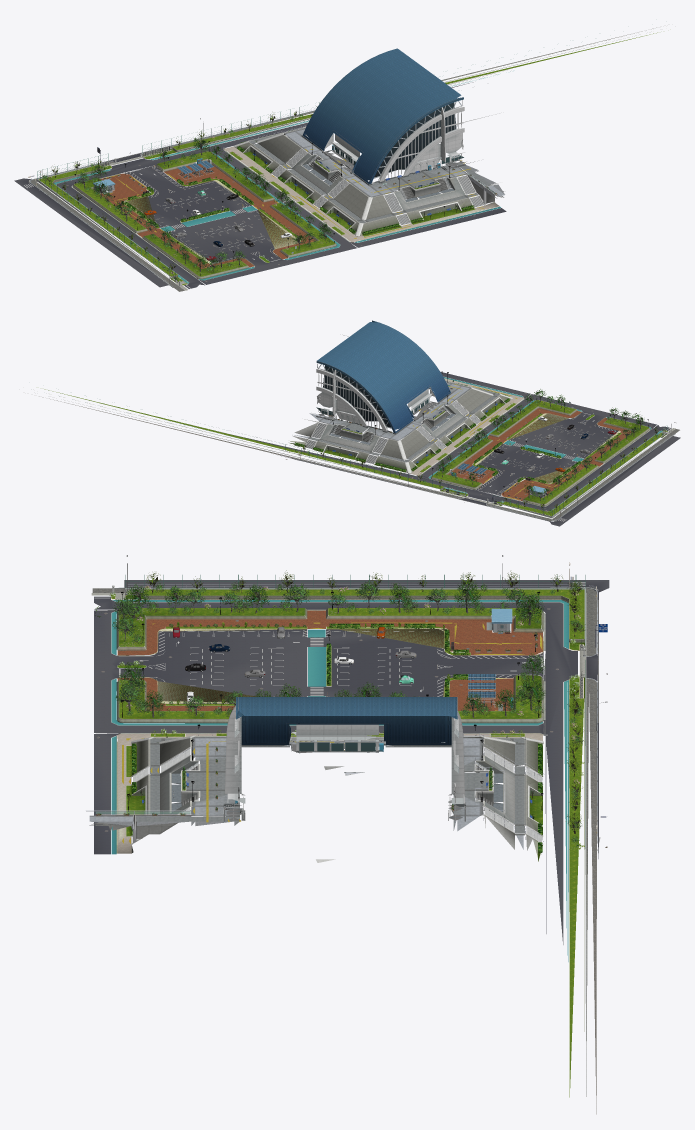
Rendered from raimonN2.glb.
The picture shows the model from 3 angles, top to bottom: view 1: azimuth 30°, elevation 25°; view 2: azimuth 150°, elevation 25°; view 3: azimuth 270°, elevation 25°; orthographic projection. The views are drawn at different scales.
Visible parts, largest first — view 1: w40g000__12__339__0_r2, w40h020__0__569__0, w40g003__10__415__0, w40g003b__2__541__0, w40g003__21__425__0_r2, w40g003__32__436__0, w40g003b__1__540__0, w40g003__26__430__0, w40g003__24__428__0, w40g003__15__420__0_r2, w40g000__15__342__0_r2, w40h020__4__572__0 (+12 smaller); view 2: w40g000__12__339__0_r2, w40h020__0__569__0, w40g003__10__415__0, w40g003b__2__541__0, w40g003__32__436__0, w40g003__21__425__0_r2, w40g003b__1__540__0, w40g000__15__342__0_r2, w40g003__26__430__0, w40g003__24__428__0, w40h020__4__572__0, w40g003__31__435__0 (+10 smaller); view 3: w40g000__12__339__0_r2, w40g003__10__415__0, w40h020__0__569__0, w40g003__32__436__0, w40g003__21__425__0_r2, w40g003__24__428__0, w40g003b__2__541__0, w40g003__26__430__0, w40g003__15__420__0_r2, w40g000__15__342__0_r2, w40g003b__1__540__0, w40g003b__0__539__0 (+11 smaller).
Boxes of the visible parts, x1=… form: w40g000__12__339__0_r2: x1=14, y1=82, x2=506, y2=288; w40h020__0__569__0: x1=301, y1=48, x2=499, y2=187; w40g003__10__415__0: x1=39, y1=32, x2=657, y2=284; w40g003b__2__541__0: x1=235, y1=134, x2=503, y2=235; w40g003__21__425__0_r2: x1=250, y1=127, x2=504, y2=223; w40g003__32__436__0: x1=93, y1=164, x2=315, y2=268; w40g003b__1__540__0: x1=103, y1=127, x2=499, y2=290; w40g003__26__430__0: x1=30, y1=110, x2=499, y2=289; w40g003__24__428__0: x1=38, y1=70, x2=505, y2=279; w40g003__15__420__0_r2: x1=54, y1=74, x2=500, y2=283; w40g000__15__342__0_r2: x1=30, y1=27, x2=656, y2=291; w40h020__4__572__0: x1=374, y1=102, x2=456, y2=177; w40g000__12__339__0_r2: x1=223, y1=372, x2=680, y2=526; w40h020__0__569__0: x1=316, y1=320, x2=451, y2=434; w40g003__10__415__0: x1=44, y1=389, x2=667, y2=515; w40g003b__2__541__0: x1=290, y1=382, x2=511, y2=472; w40g003__32__436__0: x1=448, y1=408, x2=632, y2=500; w40g003__21__425__0_r2: x1=294, y1=381, x2=499, y2=462; w40g003b__1__540__0: x1=308, y1=378, x2=675, y2=504; w40g000__15__342__0_r2: x1=39, y1=396, x2=679, y2=520; w40g003__26__430__0: x1=292, y1=378, x2=675, y2=521; w40g003__24__428__0: x1=192, y1=400, x2=662, y2=511; w40h020__4__572__0: x1=323, y1=365, x2=391, y2=427; w40g003__31__435__0: x1=306, y1=383, x2=480, y2=463; w40g000__12__339__0_r2: x1=94, y1=580, x2=609, y2=944; w40g003__10__415__0: x1=111, y1=589, x2=584, y2=1097; w40h020__0__569__0: x1=215, y1=697, x2=465, y2=821; w40g003__32__436__0: x1=117, y1=610, x2=542, y2=710; w40g003__21__425__0_r2: x1=89, y1=738, x2=524, y2=849; w40g003__24__428__0: x1=116, y1=589, x2=584, y2=1031; w40g003b__2__541__0: x1=89, y1=737, x2=542, y2=857; w40g003__26__430__0: x1=92, y1=587, x2=597, y2=914; w40g003__15__420__0_r2: x1=111, y1=600, x2=568, y2=961; w40g000__15__342__0_r2: x1=92, y1=588, x2=597, y2=1114; w40g003b__1__540__0: x1=91, y1=593, x2=585, y2=862; w40g003b__0__539__0: x1=86, y1=574, x2=597, y2=850.
Size of the model in its own units: 338 by 42.76 by 140.
107 materials, 106 textured.
